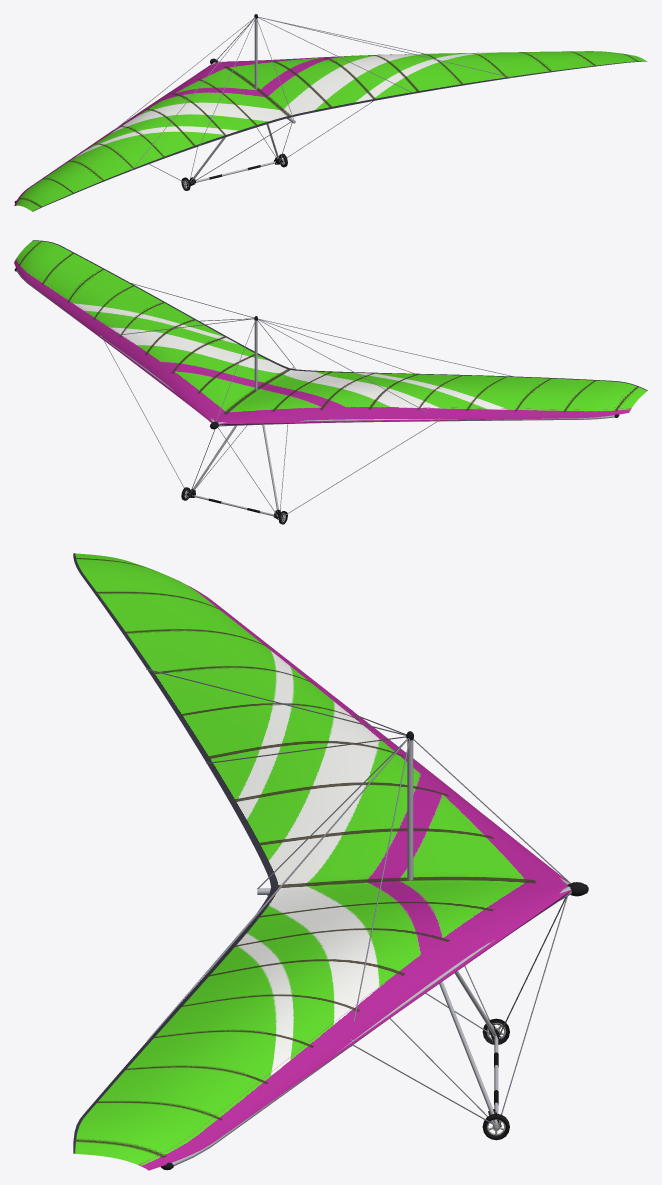
The model's file is glider_ww_spectrum.glb.
3 renders of one model, top to bottom at view 1: azimuth 30°, elevation 25°; view 2: azimuth 150°, elevation 25°; view 3: azimuth 270°, elevation 25°, orthographic. The views are drawn at different scales.
Parts seen in each view (by area): view 1: Sail, Frame, ControlFrame; view 2: Sail, Frame, ControlFrame; view 3: Sail, Frame, ControlFrame.
Part boxes in pixels (left/top/right/bottom): Sail: left=14, top=51, right=647, bottom=211; Frame: left=14, top=14, right=512, bottom=203; ControlFrame: left=149, top=101, right=373, bottom=190; Sail: left=14, top=240, right=647, bottom=425; Frame: left=14, top=267, right=619, bottom=429; ControlFrame: left=104, top=341, right=437, bottom=524; Sail: left=73, top=553, right=571, bottom=1170; Frame: left=146, top=668, right=588, bottom=1170; ControlFrame: left=267, top=895, right=567, bottom=1140.
Size of the model in its own units: 10.36 by 2.9 by 3.76.
Materials: 10 (2 with a texture image).
